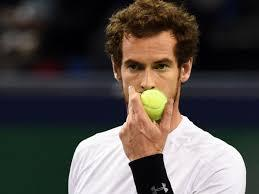Ball: (140, 89, 168, 120)
